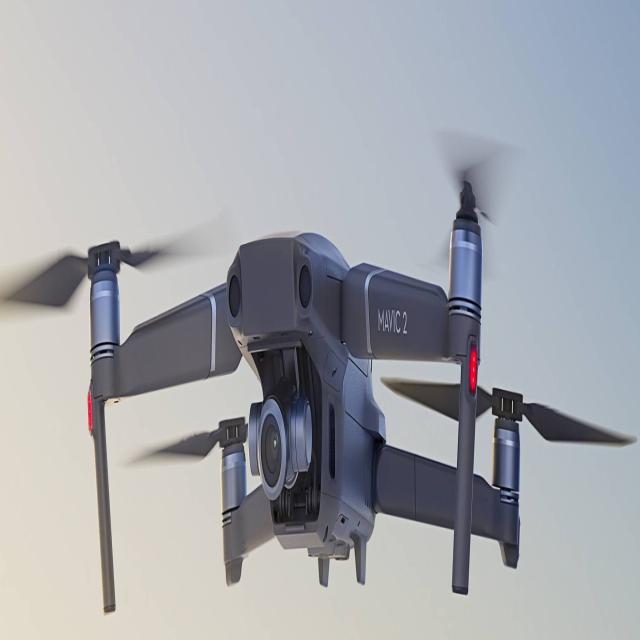drone: (4, 12, 632, 618)
